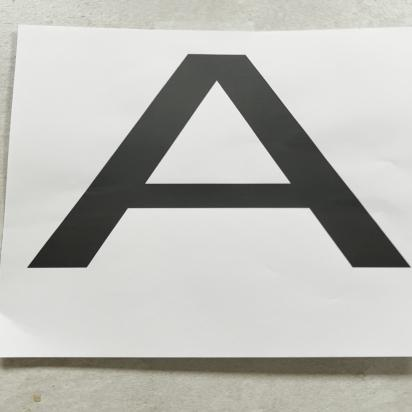seat: (21, 48, 412, 297)
